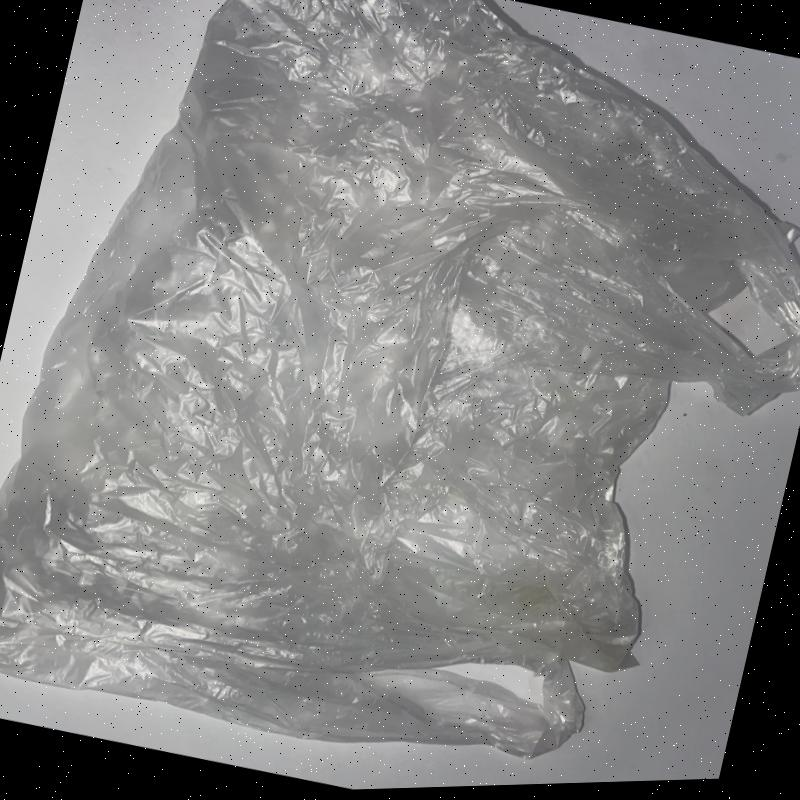plastic bag: (0, 0, 800, 759)
